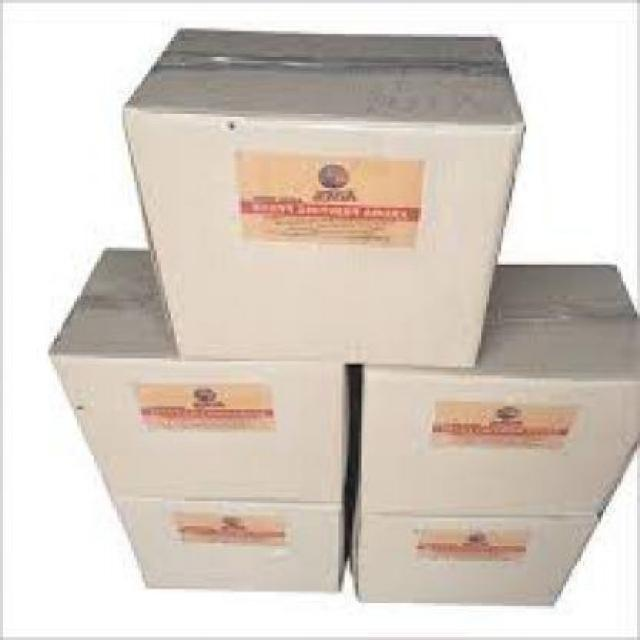box: (126, 36, 529, 362), (54, 245, 358, 503), (362, 262, 639, 516), (355, 513, 600, 602), (114, 502, 348, 593)
